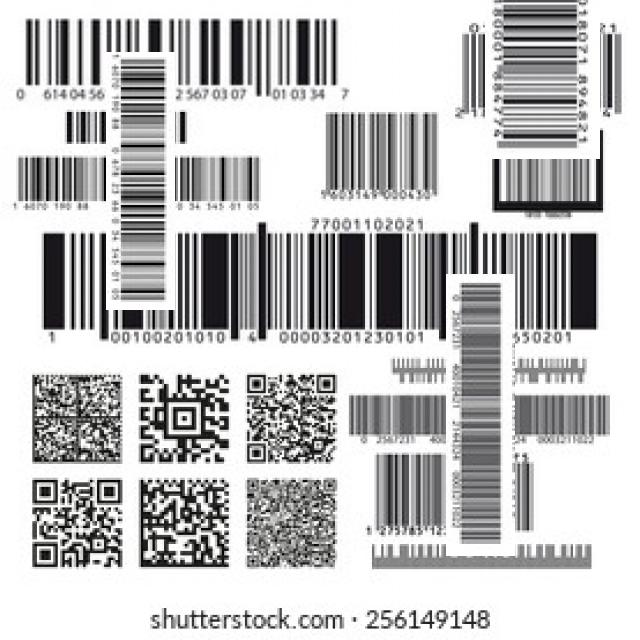Barkod: (31, 220, 606, 347), (16, 9, 359, 106), (392, 327, 568, 503), (58, 100, 222, 264), (467, 0, 617, 142)
